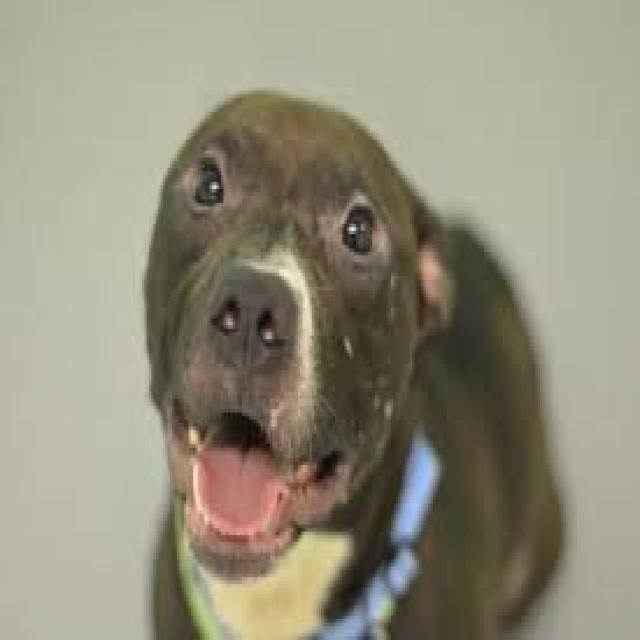Dog: (135, 69, 570, 638)
